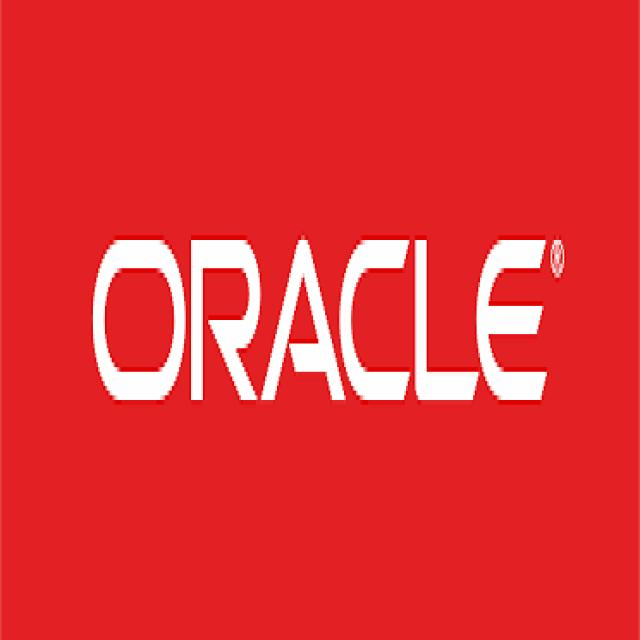oracle: (93, 236, 548, 398)
